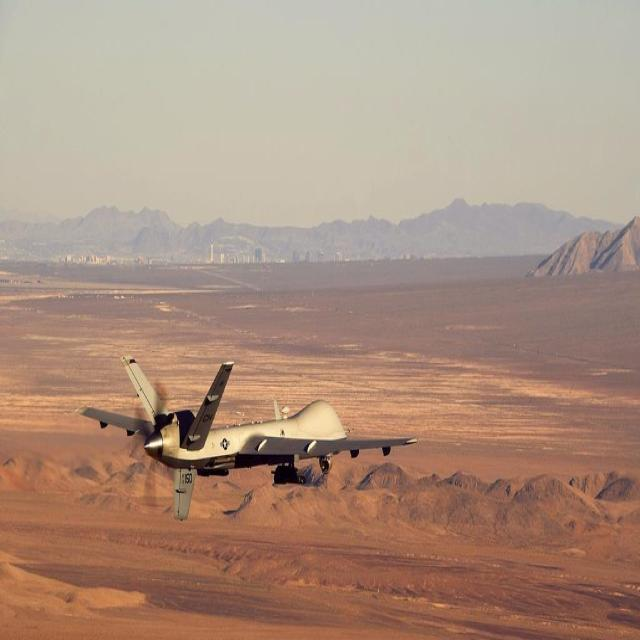MIL_Plane: (77, 353, 419, 522)
